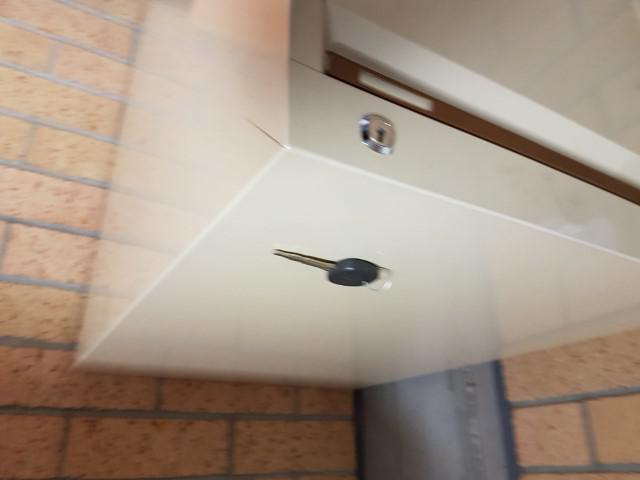key: (273, 243, 383, 289)
